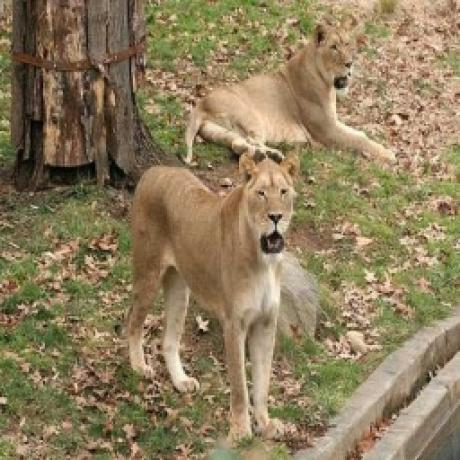Lion: (122, 152, 297, 443), (183, 20, 398, 166)
